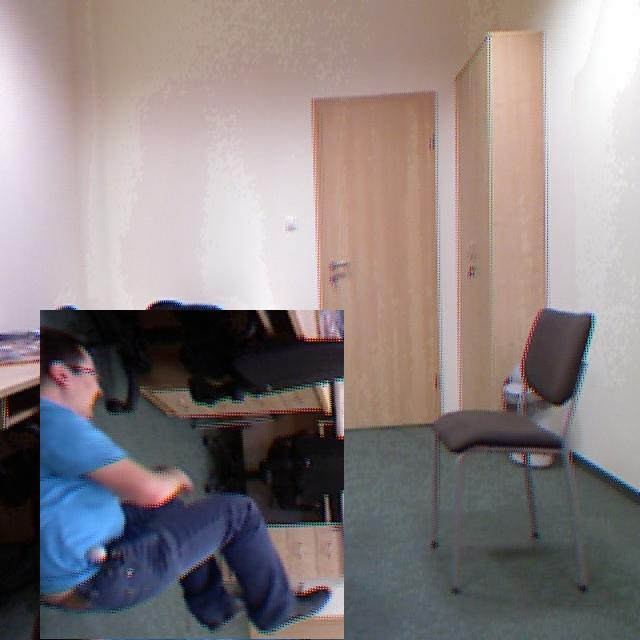Fall: (35, 317, 351, 640)
